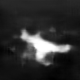plane: (17, 26, 74, 66)
